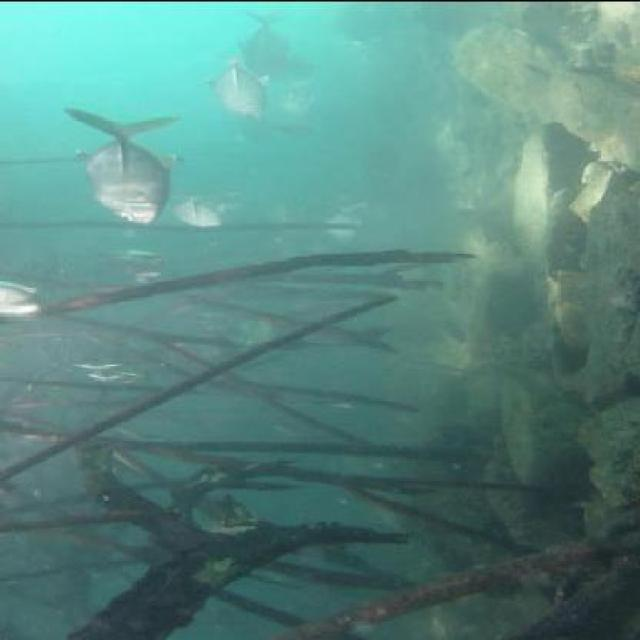Caranx_sexfasciatus_juvenile: (62, 104, 181, 228), (210, 308, 288, 372), (204, 50, 273, 121), (227, 5, 295, 76), (87, 241, 185, 285), (264, 82, 322, 144), (322, 192, 380, 248), (0, 274, 55, 328), (176, 186, 235, 234), (67, 355, 145, 387), (259, 198, 312, 240)
